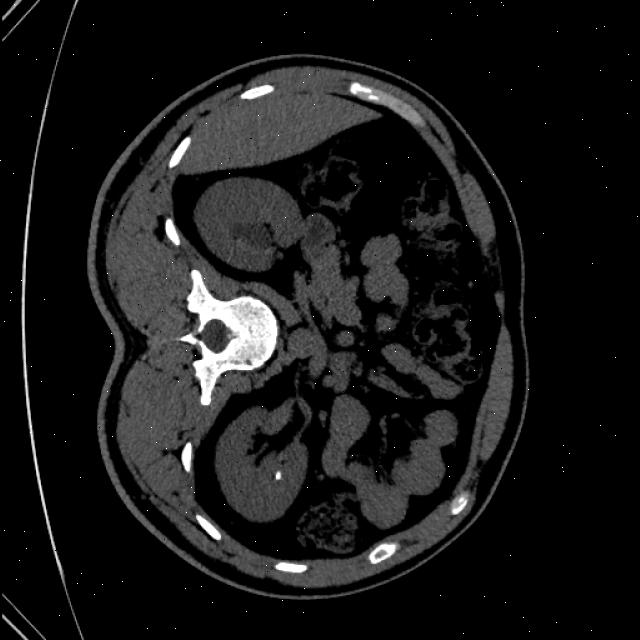kidneystone: (272, 470, 281, 480)
